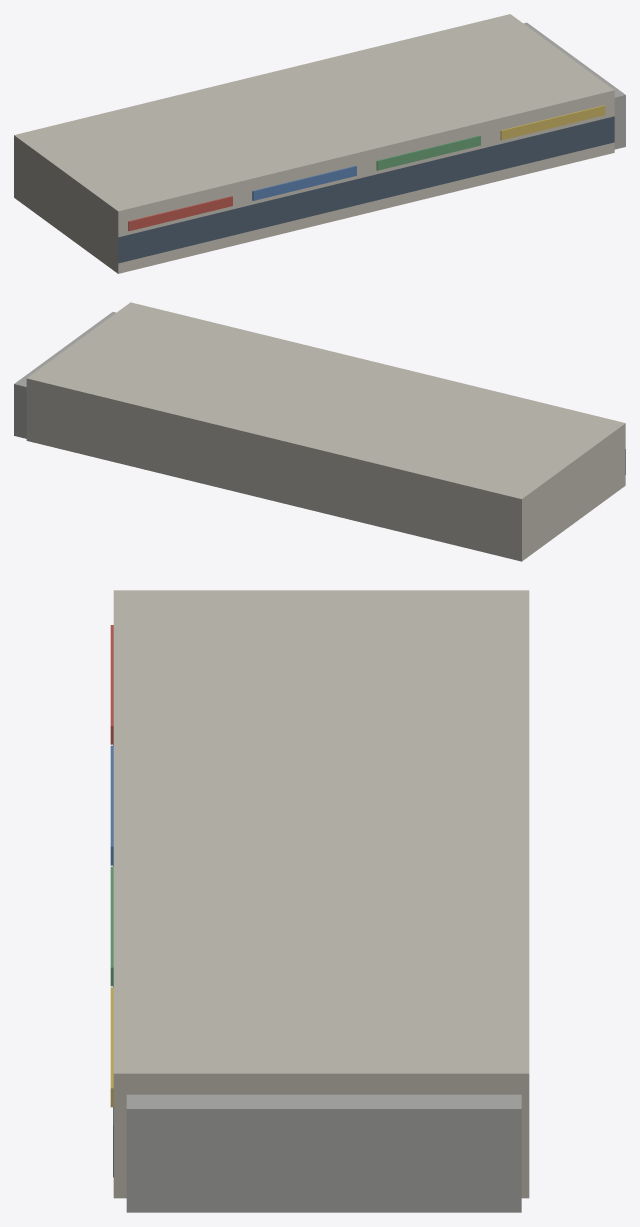
File: strip-mall.lod2.glb
3 renders of one model, top to bottom at view 1: azimuth 30°, elevation 25°; view 2: azimuth 150°, elevation 25°; view 3: azimuth 270°, elevation 25°, orthographic. The views are drawn at different scales.
Visible parts, largest first — view 1: strip-mall; view 2: strip-mall; view 3: strip-mall.
Boxes of the visible parts, x1=… form: strip-mall: x1=14, y1=14, x2=625, y2=273; strip-mall: x1=14, y1=302, x2=625, y2=561; strip-mall: x1=110, y1=590, x2=529, y2=1212.
Size of the model in its own units: 45.3 by 5.3 by 16.12.
